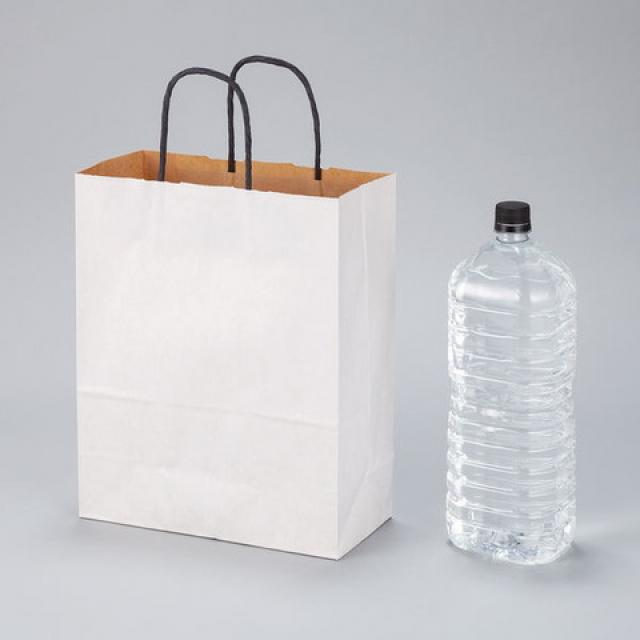paper bag: (70, 52, 399, 562)
